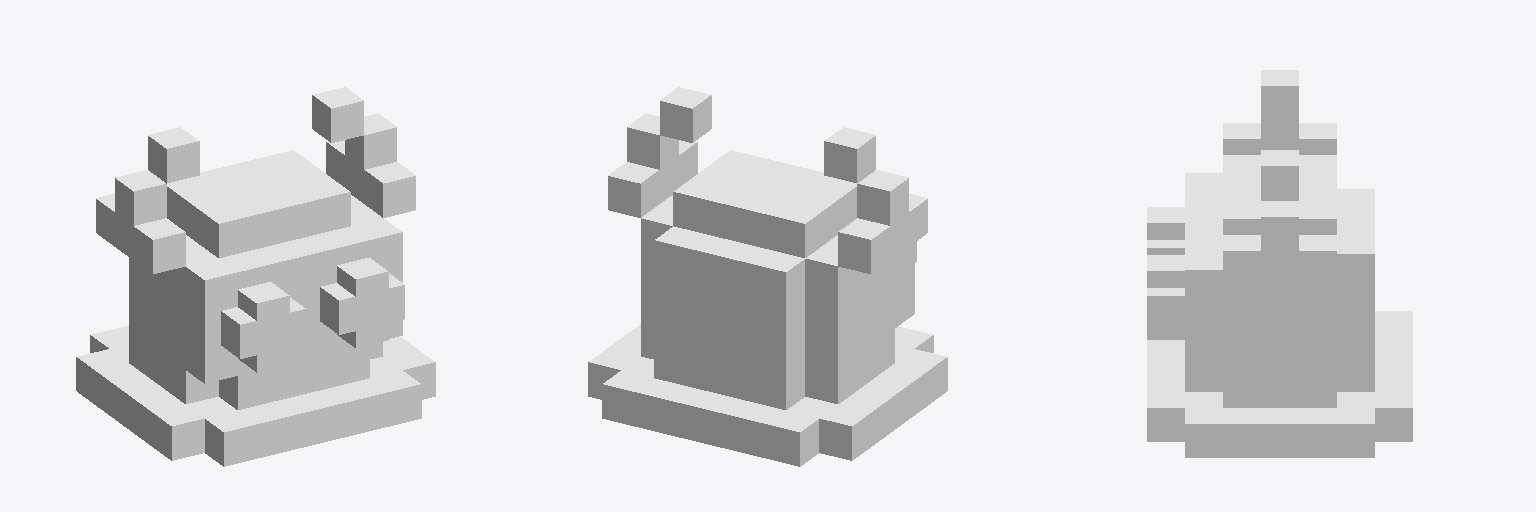
Rendered from PlayerDiablo.obj.
3 renders of one model, left to right at view 1: azimuth 30°, elevation 25°; view 2: azimuth 150°, elevation 25°; view 3: azimuth 270°, elevation 25°, orthographic.
Parts seen in each view (by area): view 1: object 1; view 2: object 1; view 3: object 1.
Part boxes in pixels (x1,y1,x2,y2): object 1: (76, 87, 435, 466); object 1: (588, 87, 947, 466); object 1: (1147, 70, 1412, 457).
Size of the model in its own units: 1.6 by 1.6 by 1.4.